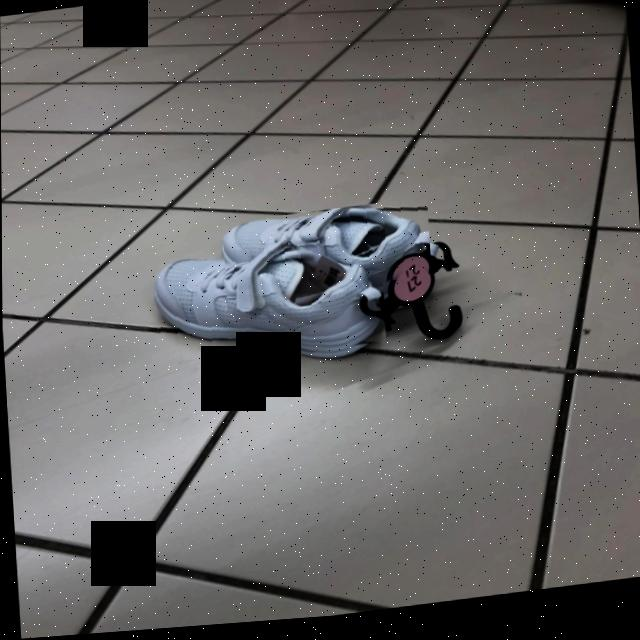shoe: (157, 253, 383, 356), (223, 211, 430, 288)
